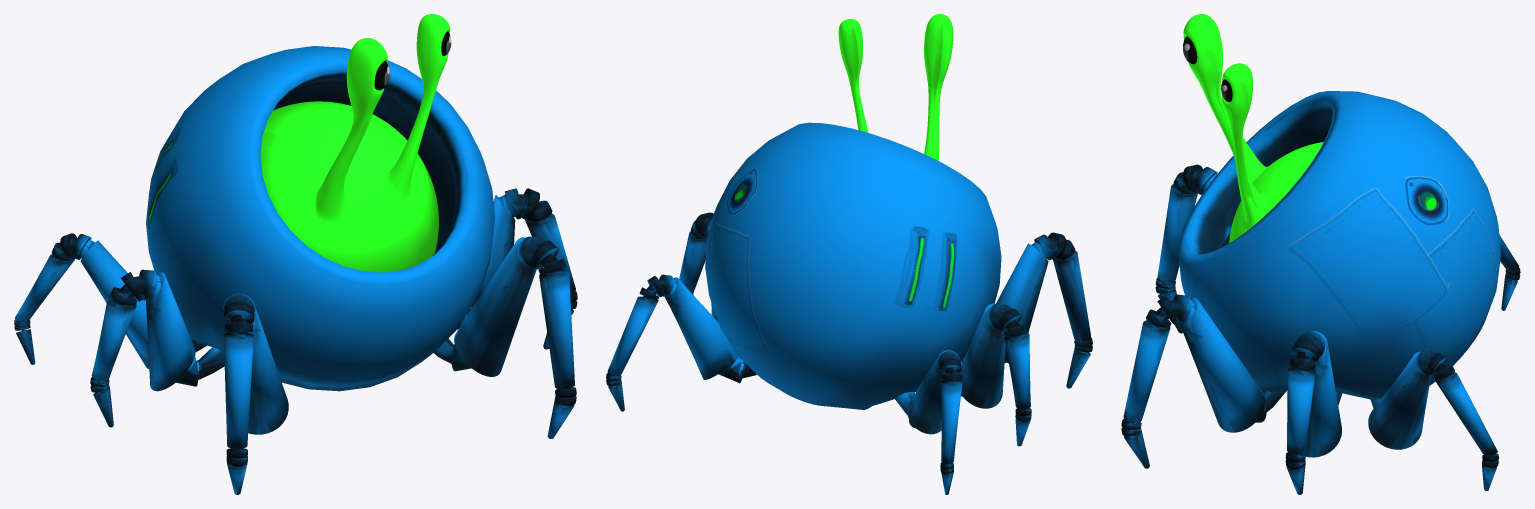
3 views of the same model, side by side, from view 1: azimuth 30°, elevation 25°; view 2: azimuth 150°, elevation 25°; view 3: azimuth 270°, elevation 25° (orthographic). The views are drawn at different scales.
Visible parts, largest first — view 1: shell, snail, Cylinder.000, Cylinder.007, Cylinder.004, Cylinder.002, Cylinder.001; view 2: shell, Cylinder.008, Cylinder.007, Cylinder.004, snail, Cylinder.002, Cylinder.001; view 3: shell, Cylinder.000, snail, Cylinder.008, Cylinder.001, Cylinder.004, Cylinder.002.
Boxes of the visible parts, x1=… form: shell: x1=146, y1=46, x2=494, y2=391; snail: x1=260, y1=14, x2=449, y2=272; Cylinder.000: x1=434, y1=236, x2=576, y2=438; Cylinder.007: x1=90, y1=269, x2=224, y2=427; Cylinder.004: x1=223, y1=293, x2=288, y2=494; Cylinder.002: x1=14, y1=233, x2=206, y2=368; Cylinder.001: x1=457, y1=188, x2=577, y2=349; shell: x1=705, y1=122, x2=1001, y2=409; Cylinder.008: x1=606, y1=274, x2=756, y2=411; Cylinder.007: x1=958, y1=303, x2=1031, y2=446; Cylinder.004: x1=962, y1=232, x2=1092, y2=388; snail: x1=838, y1=14, x2=953, y2=160; Cylinder.002: x1=895, y1=350, x2=962, y2=494; Cylinder.001: x1=679, y1=212, x2=717, y2=320; shell: x1=1178, y1=91, x2=1500, y2=399; Cylinder.000: x1=1121, y1=294, x2=1287, y2=468; snail: x1=1183, y1=14, x2=1323, y2=243; Cylinder.008: x1=1368, y1=351, x2=1498, y2=490; Cylinder.001: x1=1285, y1=331, x2=1342, y2=494; Cylinder.004: x1=1155, y1=164, x2=1217, y2=333; Cylinder.002: x1=1499, y1=234, x2=1520, y2=310.
Bounding box in the file's own units: 2.83 × 2.49 × 2.35.
Materials: 4 (4 with a texture image).
